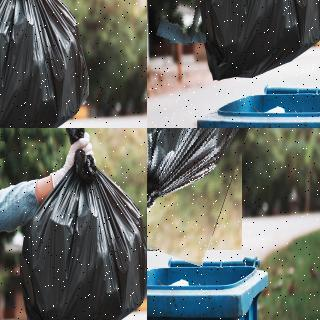Garbage: (147, 128, 258, 258), (163, 0, 213, 44), (5, 143, 16, 157), (0, 140, 6, 158)
